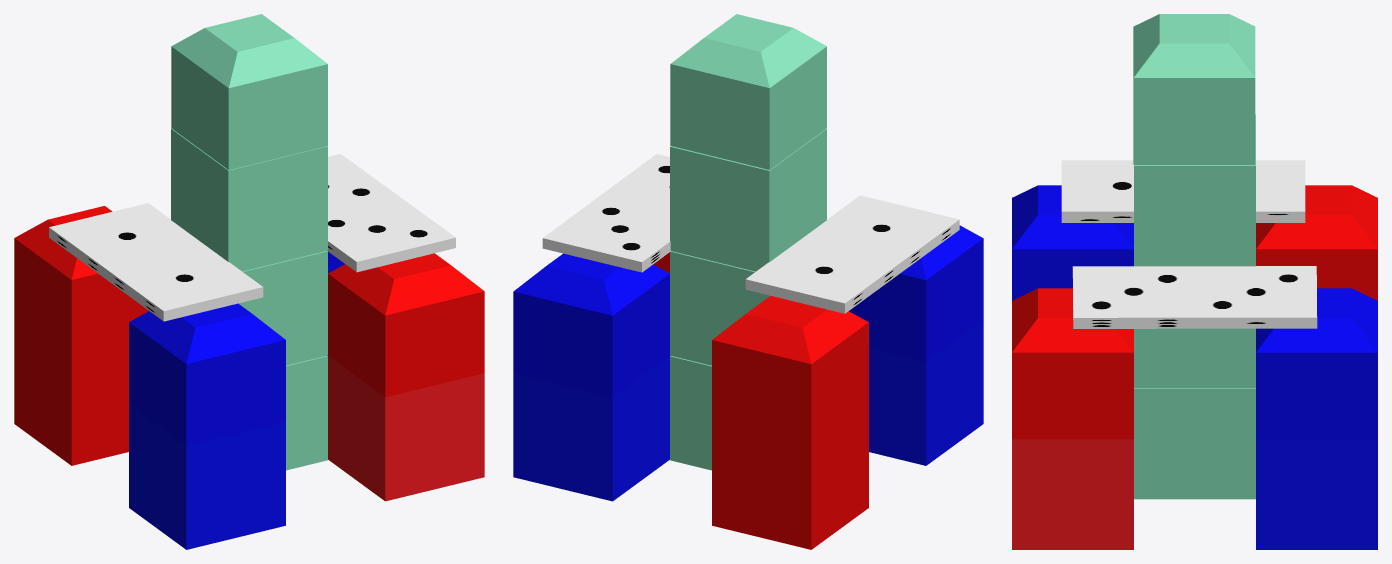
Rendered from blocks_3.glb.
3 renders of one model, left to right at view 1: azimuth 30°, elevation 25°; view 2: azimuth 150°, elevation 25°; view 3: azimuth 270°, elevation 25°, orthographic. The views are drawn at different scales.
Parts seen in each view (by area): view 1: Cube.005, Cube.009, Cube.010, Cube, Cube.015, Cube.008, Cube.003, Cube.019, Cube.002, Cube.012, Cube.007, Cube.013 (+2 smaller); view 2: Cube.005, Cube.019, Cube.014, Cube.017, Cube.003, Cube.008, Cube, Cube.010, Cube.013, Cube.007, Cube.011, Cube.002 (+2 smaller); view 3: Cube.005, Cube.014, Cube.009, Cube.006, Cube.015, Cube.017, Cube.008, Cube.019, Cube.010, Cube.012, Cube.011, Cube.007 (+2 smaller).
Part boxes in pixels (x1,y1,x2,y2): Cube.005: (171, 14, 327, 169); Cube.009: (328, 253, 484, 397); Cube.010: (129, 303, 285, 445); Cube: (129, 404, 285, 549); Cube.015: (328, 356, 484, 501); Cube.008: (171, 128, 327, 271); Cube.003: (14, 320, 128, 465); Cube.019: (14, 206, 148, 361); Cube.002: (106, 245, 263, 321); Cube.012: (327, 195, 455, 272); Cube.007: (238, 251, 327, 365); Cube.013: (49, 203, 204, 278); Cube.005: (670, 14, 826, 169); Cube.019: (712, 295, 868, 445); Cube.014: (513, 253, 669, 397); Cube.017: (513, 356, 669, 501); Cube.003: (712, 404, 868, 549); Cube.008: (670, 129, 826, 271); Cube: (869, 320, 983, 465); Cube.010: (849, 225, 983, 361); Cube.013: (745, 237, 902, 313); Cube.007: (670, 251, 769, 365); Cube.011: (542, 196, 670, 272); Cube.002: (804, 195, 959, 271); Cube.005: (1133, 14, 1255, 164); Cube.014: (1256, 288, 1377, 439); Cube.009: (1012, 288, 1133, 439); Cube.006: (1134, 388, 1255, 499); Cube.015: (1012, 439, 1133, 549); Cube.017: (1256, 439, 1377, 549); Cube.008: (1134, 114, 1255, 266); Cube.019: (1256, 185, 1377, 300); Cube.010: (1012, 185, 1133, 300); Cube.012: (1072, 266, 1195, 328); Cube.011: (1194, 266, 1317, 328); Cube.007: (1134, 328, 1255, 387).
Size of the model in its own units: 6 by 8.05 by 6.
Materials: 13 (1 with a texture image).
